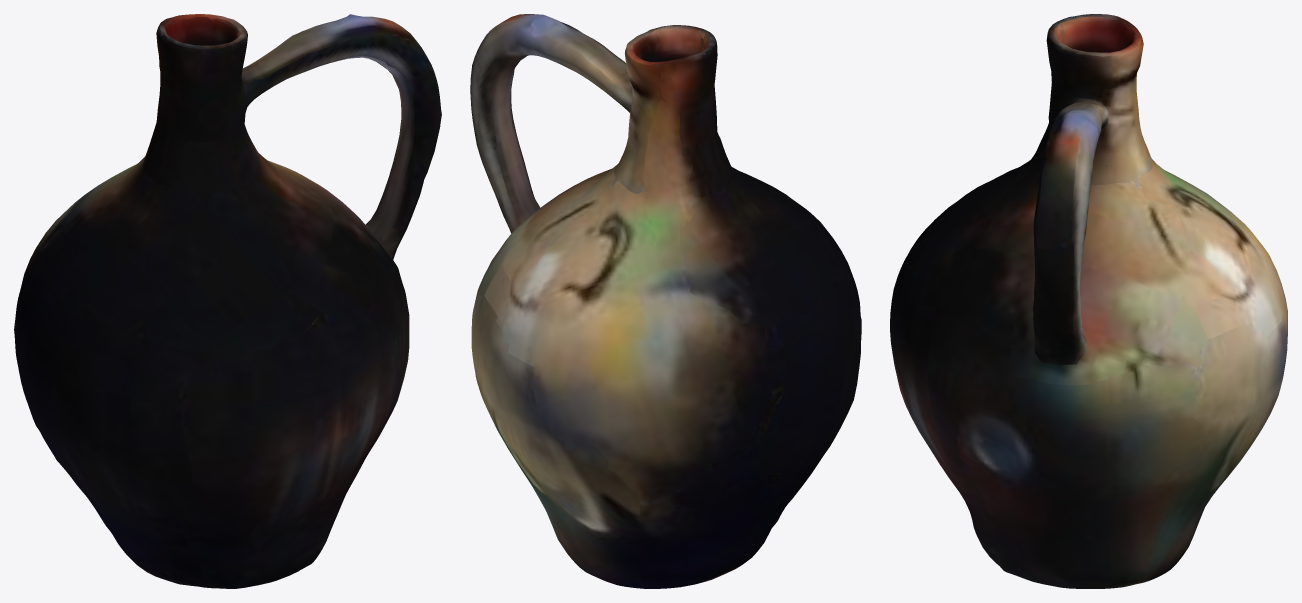
The picture shows the model from 3 angles, left to right: view 1: azimuth 30°, elevation 25°; view 2: azimuth 150°, elevation 25°; view 3: azimuth 270°, elevation 25°; orthographic projection.
Visible parts, largest first — view 1: world; view 2: world; view 3: world.
Boxes of the visible parts, box(x1,y1,x2,y2) form: world: box(14, 14, 441, 588); world: box(470, 14, 861, 588); world: box(890, 14, 1287, 588).
Bounding box in the file's own units: 0.3865 × 0.5074 × 0.3552.
1 material, 1 textured.
